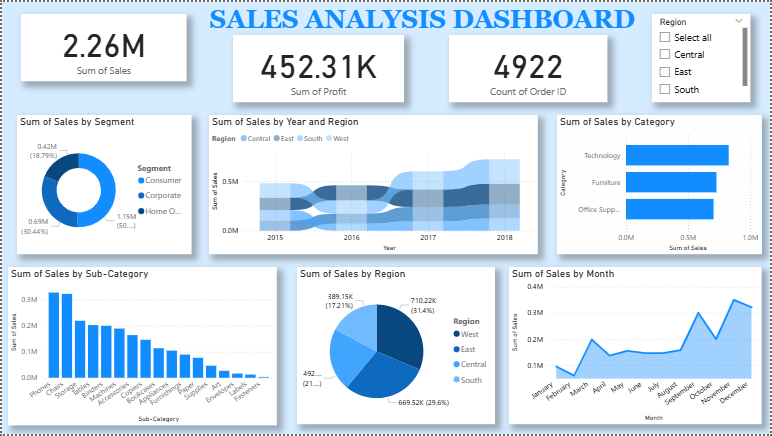

The dashboard page shown, as its layout file describes it:
{"tool":"powerbi","page":{"name":"Page 1","canvas":[1280,720],"ordinal":0},"visuals":[{"type":"lineChart","fields":{"Category":["train.Date_Converted.Variation.Date Hierarchy.Month"],"Y":["Sum(train.Sales)"]},"box":[845.5,442.4,421.2,262.1],"z":0},{"type":"barChart","fields":{"Category":["train.Category"],"Y":["Sum(train.Sales)"]},"box":[925.8,187.9,340.9,231.8],"z":1000},{"type":"pieChart","fields":{"Category":["train.Region"],"Y":["Sum(train.Sales)"]},"box":[490.9,442.4,330.3,262.1],"z":2000},{"type":"textbox","box":[328.8,0,743.9,75.8],"z":3000},{"type":"card","fields":{"Values":["Sum(train.Sales)"]},"box":[31.8,19.7,275.8,112.1],"z":4000},{"type":"columnChart","fields":{"Category":["train.Sub-Category"],"Y":["Sum(train.Sales)"]},"box":[10.6,440.9,448.5,263.6],"z":5000},{"type":"ribbonChart","fields":{"Category":["train.Date_Converted.Variation.Date Hierarchy.Year"],"Y":["Sum(train.Sales)"],"Series":["train.Region"]},"box":[345.5,187.9,548.5,231.8],"z":6000},{"type":"donutChart","fields":{"Category":["train.Segment"],"Y":["Sum(train.Sales)"]},"box":[24.2,187.9,290.9,231.8],"z":7000},{"type":"card","fields":{"Values":["Sum(train.Profit)"]},"box":[384.8,54.5,284.8,112.1],"z":8000},{"type":"card","fields":{"Values":["Count(train.Order ID)"]},"box":[745.5,54.5,263.6,112.1],"z":9000},{"type":"slicer","fields":{"Values":["train.Region"]},"box":[1083.3,19.7,163.6,147],"z":9001}]}

Visuals, with their boxes in screenshot pixels (x1, y1, x2, y2), scaled from the page's 1280x720 canvas onto the 772x436 screenshot:
lineChart - train.Date_Converted.Variation.Date Hierarchy.Month x Sum(train.Sales): [x1=510, y1=268, x2=764, y2=427]
barChart - train.Category x Sum(train.Sales): [x1=558, y1=114, x2=764, y2=254]
pieChart - train.Region x Sum(train.Sales): [x1=296, y1=268, x2=495, y2=427]
textbox: [x1=198, y1=0, x2=647, y2=46]
card - Sum(train.Sales): [x1=19, y1=12, x2=186, y2=80]
columnChart - train.Sub-Category x Sum(train.Sales): [x1=6, y1=267, x2=277, y2=427]
ribbonChart - train.Date_Converted.Variation.Date Hierarchy.Year x Sum(train.Sales): [x1=208, y1=114, x2=539, y2=254]
donutChart - train.Segment x Sum(train.Sales): [x1=15, y1=114, x2=190, y2=254]
card - Sum(train.Profit): [x1=232, y1=33, x2=404, y2=101]
card - Count(train.Order ID): [x1=450, y1=33, x2=609, y2=101]
slicer - train.Region: [x1=653, y1=12, x2=752, y2=101]
